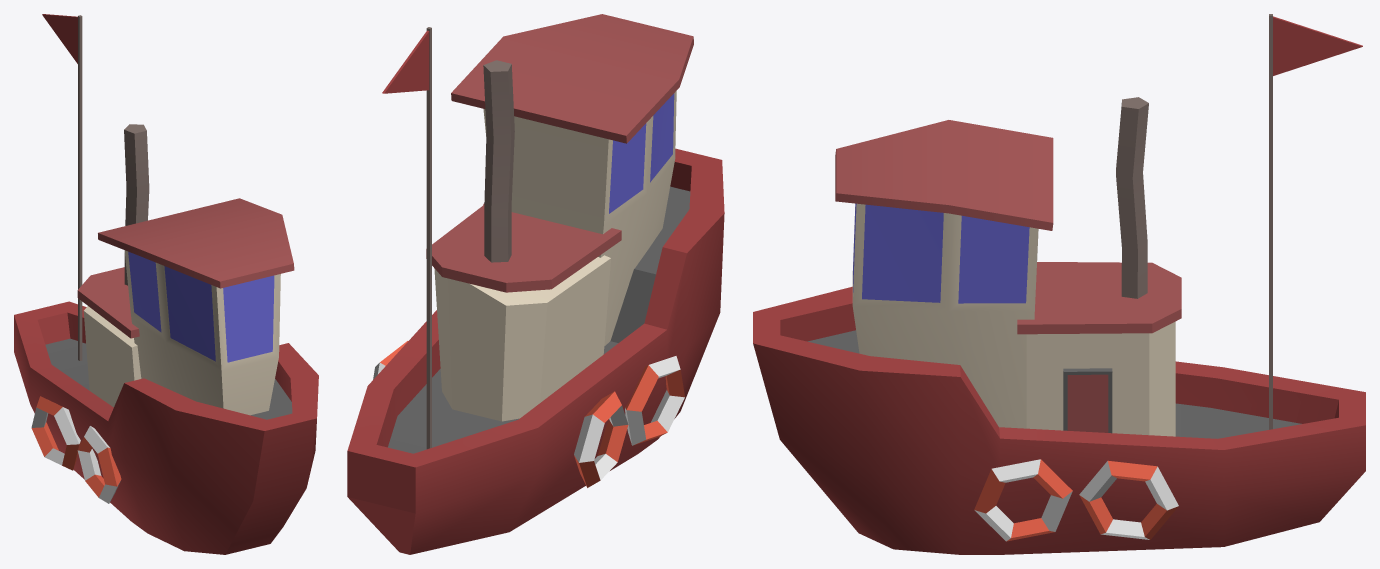
File: Boat.fbx
3 views of the same model, side by side, from view 1: azimuth 30°, elevation 25°; view 2: azimuth 150°, elevation 25°; view 3: azimuth 270°, elevation 25° (orthographic). The views are drawn at different scales.
Parts seen in each view (by area): view 1: Boat; view 2: Boat; view 3: Boat.
Part boxes in pixels (box(x1,y1,x2,y2)): Boat: box(14, 14, 318, 554); Boat: box(347, 14, 724, 554); Boat: box(753, 14, 1365, 554).
Bounding box in the file's own units: 226 × 477 × 525.
